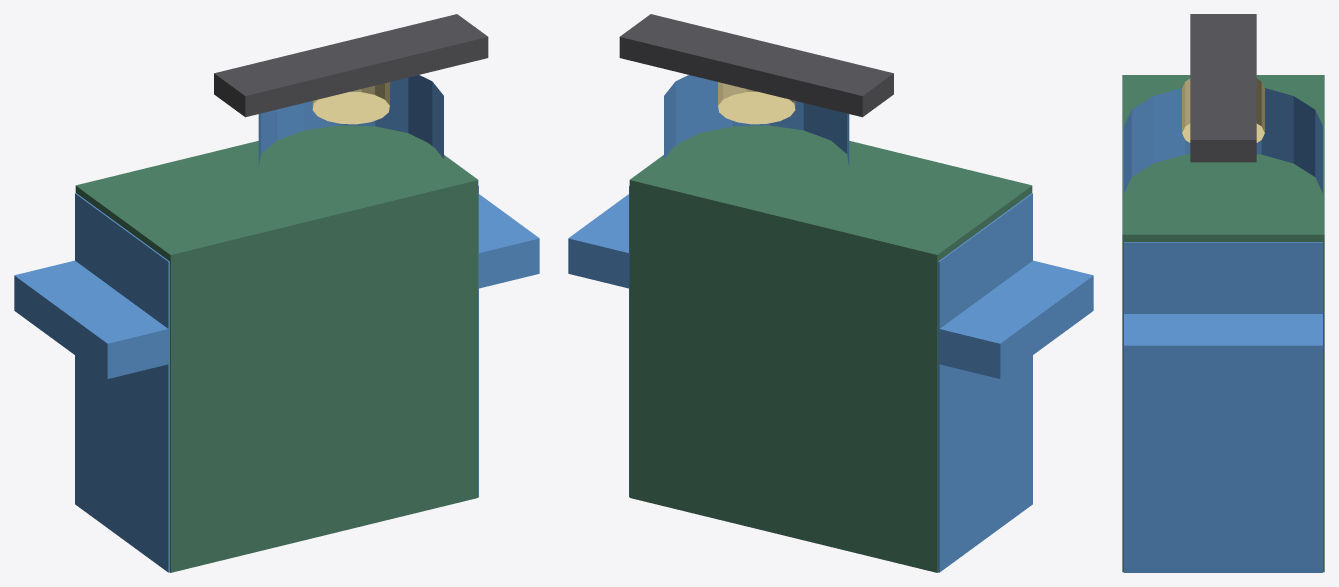
The picture shows the model from 3 angles, left to right: view 1: azimuth 30°, elevation 25°; view 2: azimuth 150°, elevation 25°; view 3: azimuth 270°, elevation 25°; orthographic projection. The views are drawn at different scales.
Visible parts, largest first — view 1: sg90-pcb, sg90-chassis, sg90-plastic, sg90-pins; view 2: sg90-pcb, sg90-chassis, sg90-plastic, sg90-pins; view 3: sg90-chassis, sg90-pcb, sg90-plastic, sg90-pins.
Boxes of the visible parts, bbox=[...] form: sg90-pcb: bbox=[75, 125, 478, 572]; sg90-chassis: bbox=[14, 75, 539, 572]; sg90-plastic: bbox=[214, 14, 488, 117]; sg90-pins: bbox=[312, 82, 389, 124]; sg90-pcb: bbox=[629, 125, 1032, 572]; sg90-chassis: bbox=[568, 75, 1093, 572]; sg90-plastic: bbox=[619, 14, 893, 117]; sg90-pins: bbox=[718, 82, 795, 124]; sg90-chassis: bbox=[1124, 88, 1322, 572]; sg90-pcb: bbox=[1122, 75, 1324, 572]; sg90-plastic: bbox=[1190, 14, 1256, 162]; sg90-pins: bbox=[1182, 78, 1264, 142].
Size of the model in its own units: 0.032 by 0.0302 by 0.0122.
